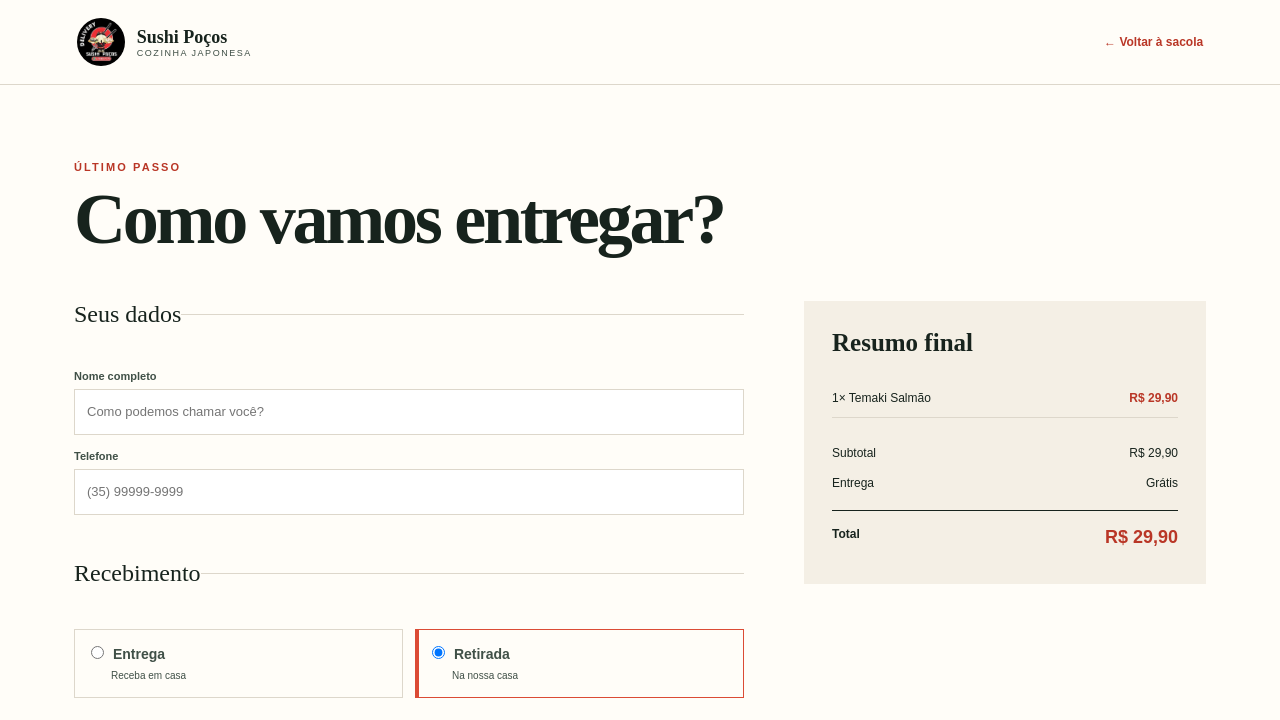
Scenario: CheckoutPage › supports pickup and confirms a valid order review
The width and height of the screenshot is (1280, 720).
Expected: the heading "Como vamos entregar?" is shown, [74, 179, 724, 259]
Expected: the radio button labelled "Retirada Na nossa casa" is checked, [432, 646, 445, 658]
In the field labelled "Nome completo": (409, 412) [74, 388, 744, 434], type "Ana Sushi"
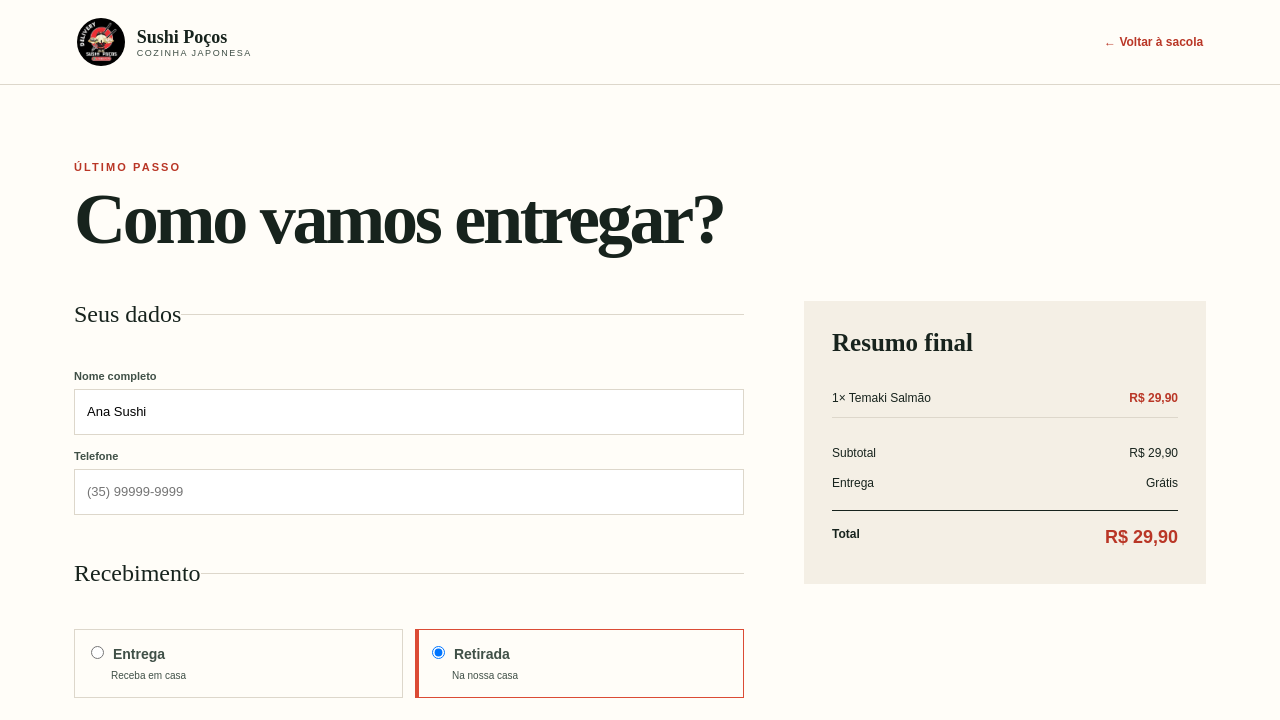
In the field labelled "Telefone": (409, 492) [74, 468, 744, 514], type "35999999999"
(page scrolled)
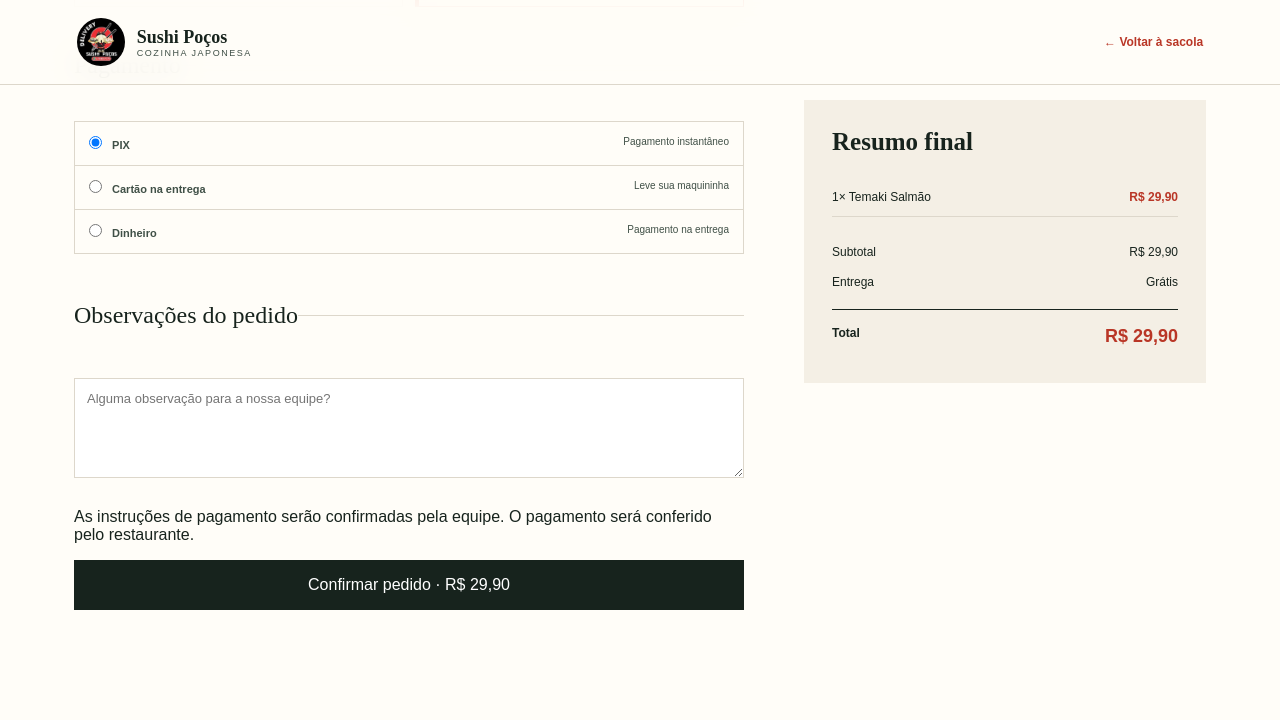
Click the button "Confirmar pedido · R$ 29,90": (409, 584) [74, 560, 744, 610]
(page scrolled)
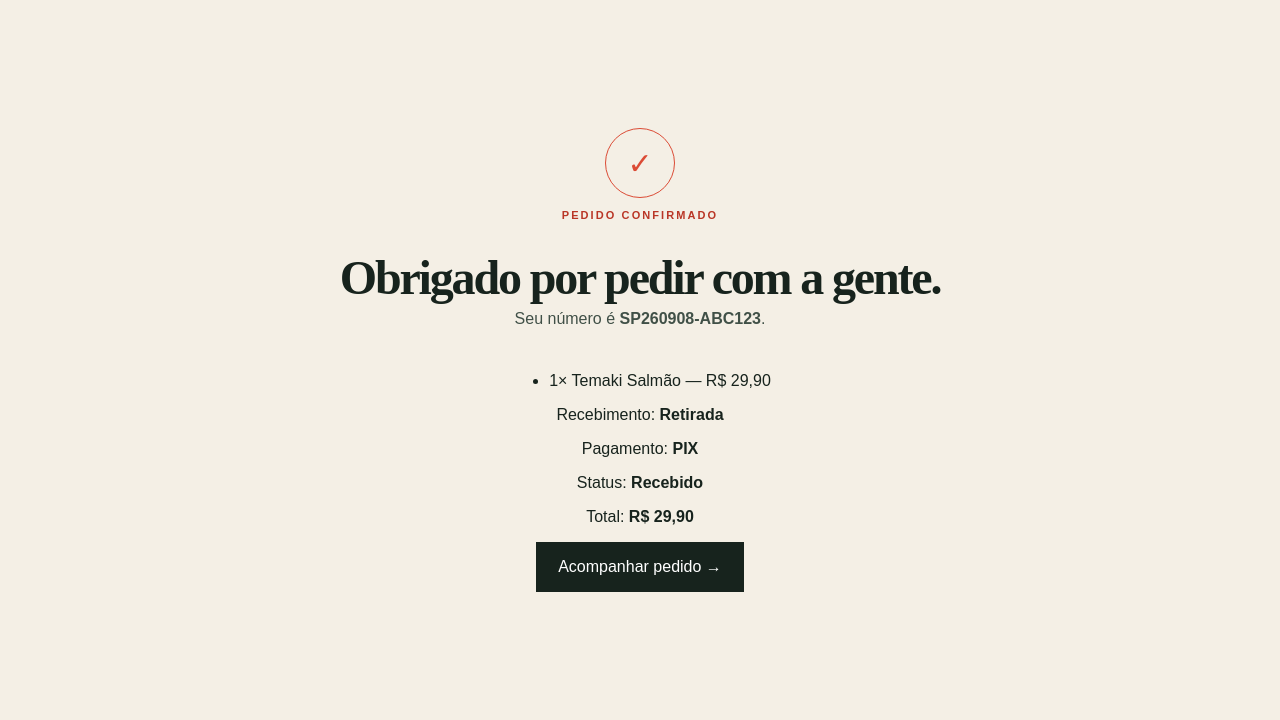
Result: the heading "Obrigado por pedir com a gente." is shown at [340, 254, 940, 302]
Result: the element named "Resumo do pedido" shows "Temaki Salmão" at [572, 372, 681, 388]
Result: the element named "Resumo do pedido" shows "R$ 29,90" at [706, 372, 771, 388]
